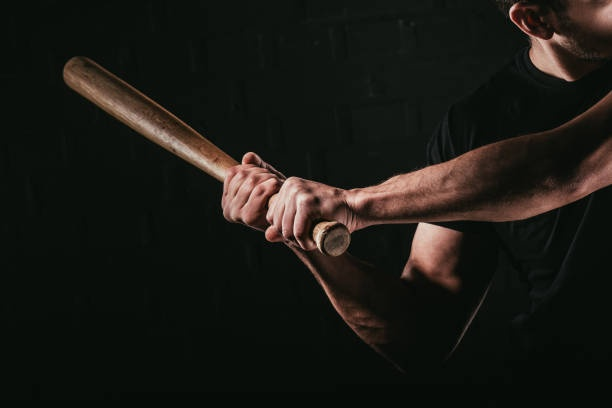bita: (60, 56, 350, 248)
